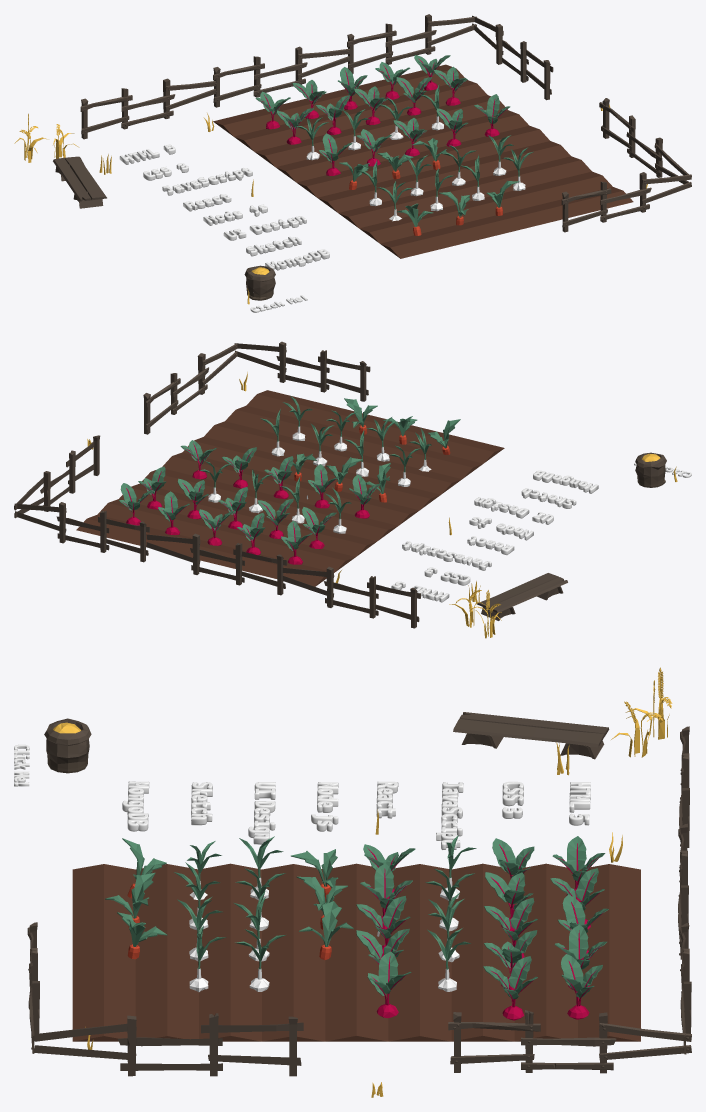
File: SkillModels.glb
3 views of the same model, one above another, from view 1: azimuth 30°, elevation 25°; view 2: azimuth 150°, elevation 25°; view 3: azimuth 270°, elevation 25° (orthographic). The views are drawn at different scales.
Visible parts, largest first — view 1: floor, Fense_1.001, React, Css, Html, Back, JS, UI, sketch, Mongodb, Node, bag_2; view 2: floor, Fense_1.001, Css, React, Html, Back, JS, UI, Mongodb, sketch, Node, bag_2; view 3: floor, Fense_1.001, Css, Html, Back, React, JS, UI, Node, Mongodb, sketch, bag_2 (+1 smaller).
Boxes of the visible parts, bbox=[...] form: floor: bbox=[213, 64, 633, 258]; Fense_1.001: bbox=[80, 14, 691, 232]; React: bbox=[183, 94, 510, 211]; Css: bbox=[143, 66, 467, 180]; Html: bbox=[119, 55, 450, 164]; Back: bbox=[14, 113, 106, 208]; JS: bbox=[162, 84, 443, 195]; UI: bbox=[223, 135, 513, 240]; sketch: bbox=[246, 147, 533, 256]; Mongodb: bbox=[265, 180, 519, 270]; Node: bbox=[203, 138, 446, 225]; bag_2: bbox=[244, 265, 275, 300]; floor: bbox=[76, 390, 504, 586]; Fense_1.001: bbox=[14, 341, 420, 628]; Css: bbox=[138, 466, 470, 585]; React: bbox=[180, 440, 514, 555]; Html: bbox=[119, 483, 449, 602]; Back: bbox=[449, 573, 567, 638]; JS: bbox=[199, 461, 491, 570]; UI: bbox=[260, 409, 553, 524]; Mongodb: bbox=[344, 398, 598, 493]; sketch: bbox=[283, 396, 576, 508]; Node: bbox=[292, 453, 533, 540]; bag_2: bbox=[635, 452, 666, 487]; floor: bbox=[72, 863, 640, 1041]; Fense_1.001: bbox=[27, 726, 691, 1076]; Css: bbox=[483, 781, 537, 1020]; Html: bbox=[550, 782, 608, 1019]; Back: bbox=[453, 667, 672, 759]; React: bbox=[356, 781, 415, 1018]; JS: bbox=[425, 782, 476, 991]; UI: bbox=[233, 782, 286, 991]; Node: bbox=[291, 782, 353, 959]; Mongodb: bbox=[105, 781, 167, 959]; sketch: bbox=[174, 782, 226, 992]; bag_2: bbox=[44, 718, 91, 773].
Size of the model in its own units: 13.76 by 1.61 by 10.67.
